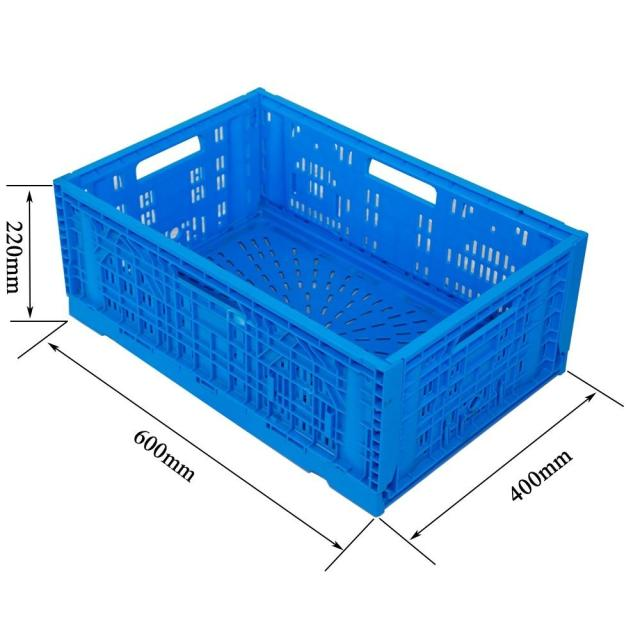basket: (0, 27, 621, 563)
